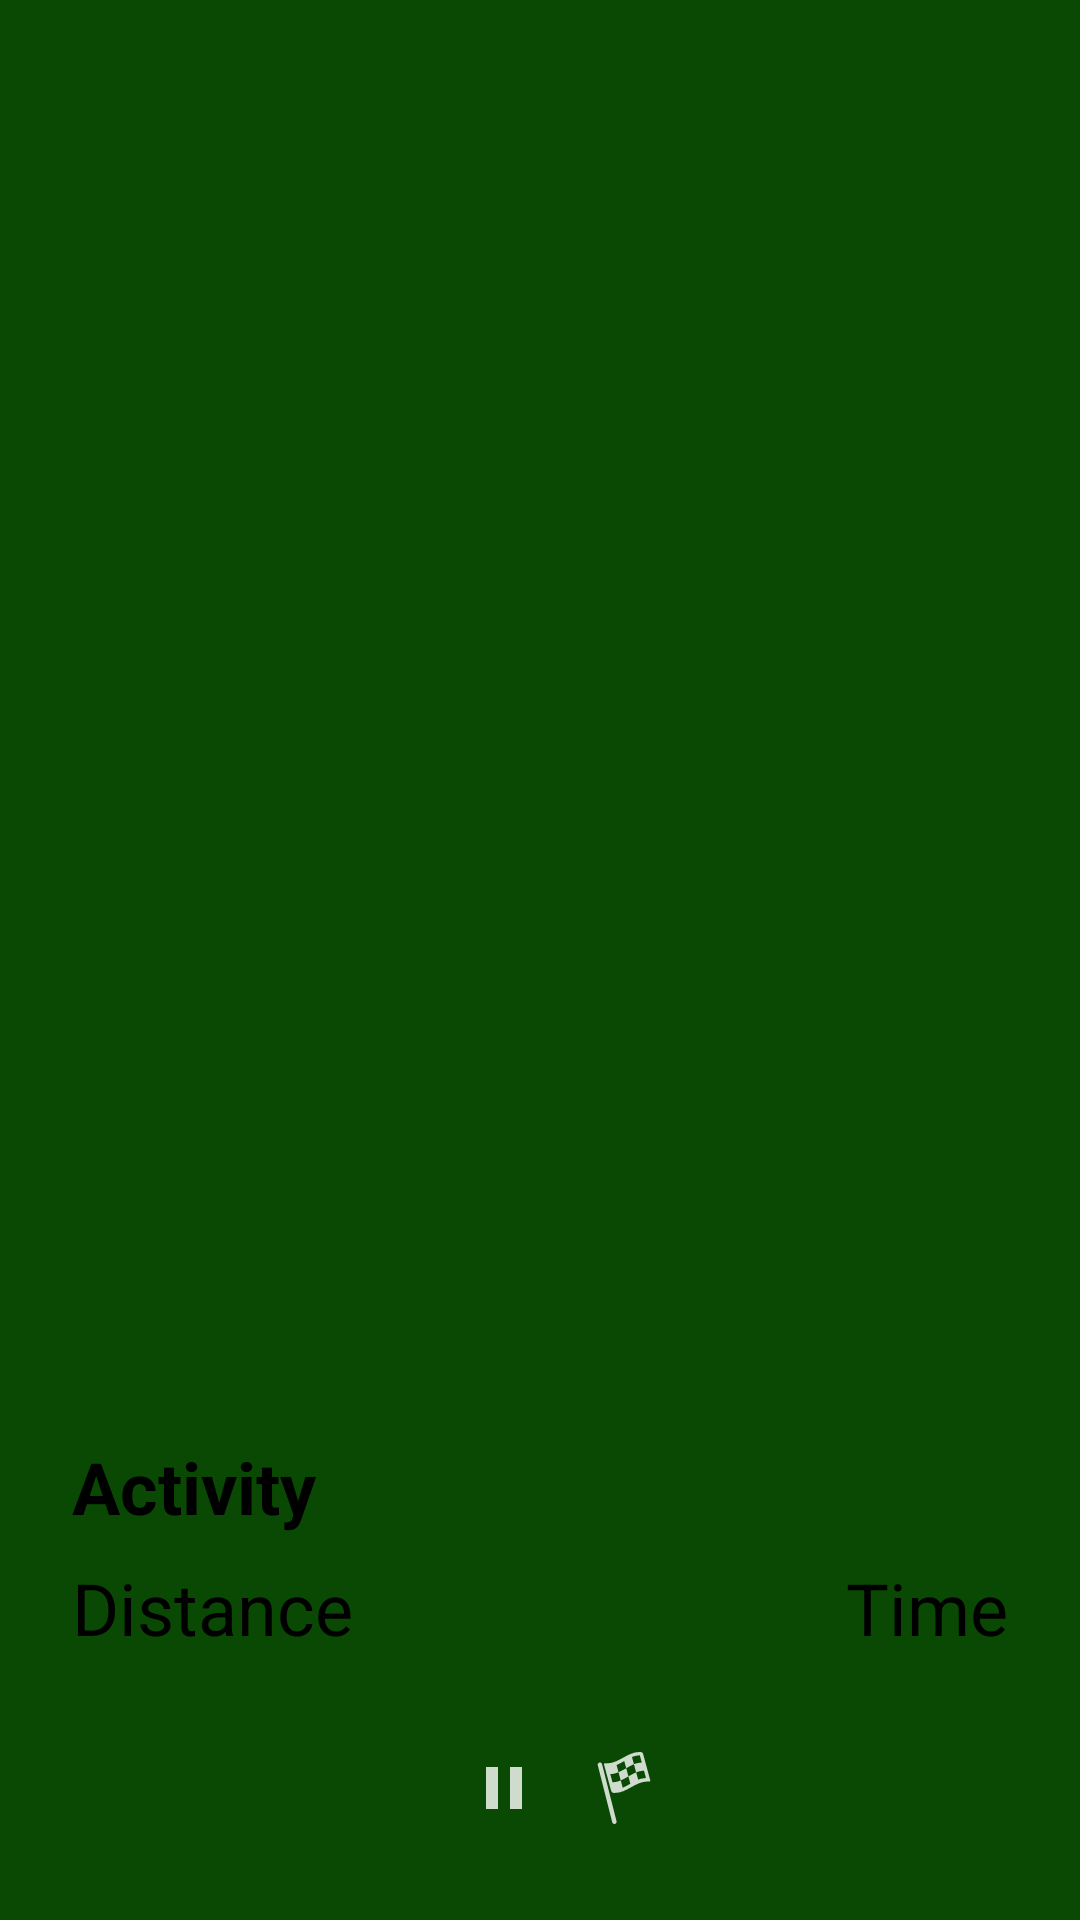

Icons on this 1080*1920 Android screen, each with the point to tap as (x,y):
finish: (624,1788)
pause: (504,1788)
